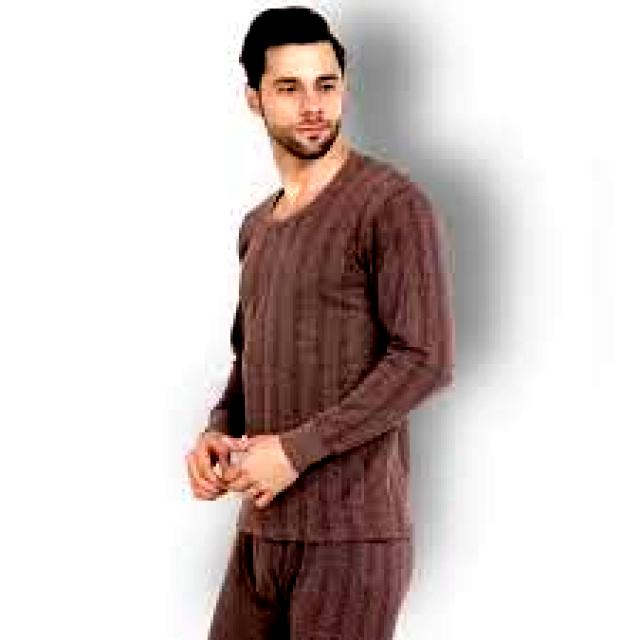face: (245, 40, 347, 159)
lower-wear: (208, 530, 412, 639)
top-wear: (205, 148, 455, 540)
